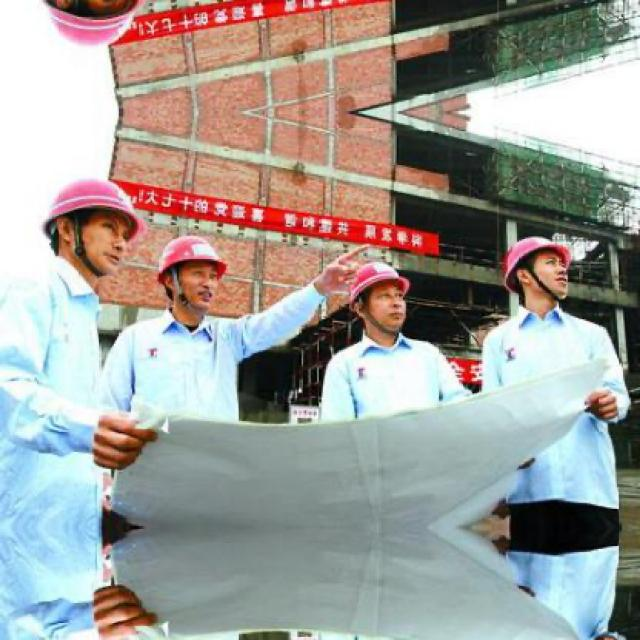helmet: (36, 176, 144, 270), (497, 236, 577, 310), (152, 236, 226, 316), (36, 0, 146, 51), (343, 264, 417, 339)
